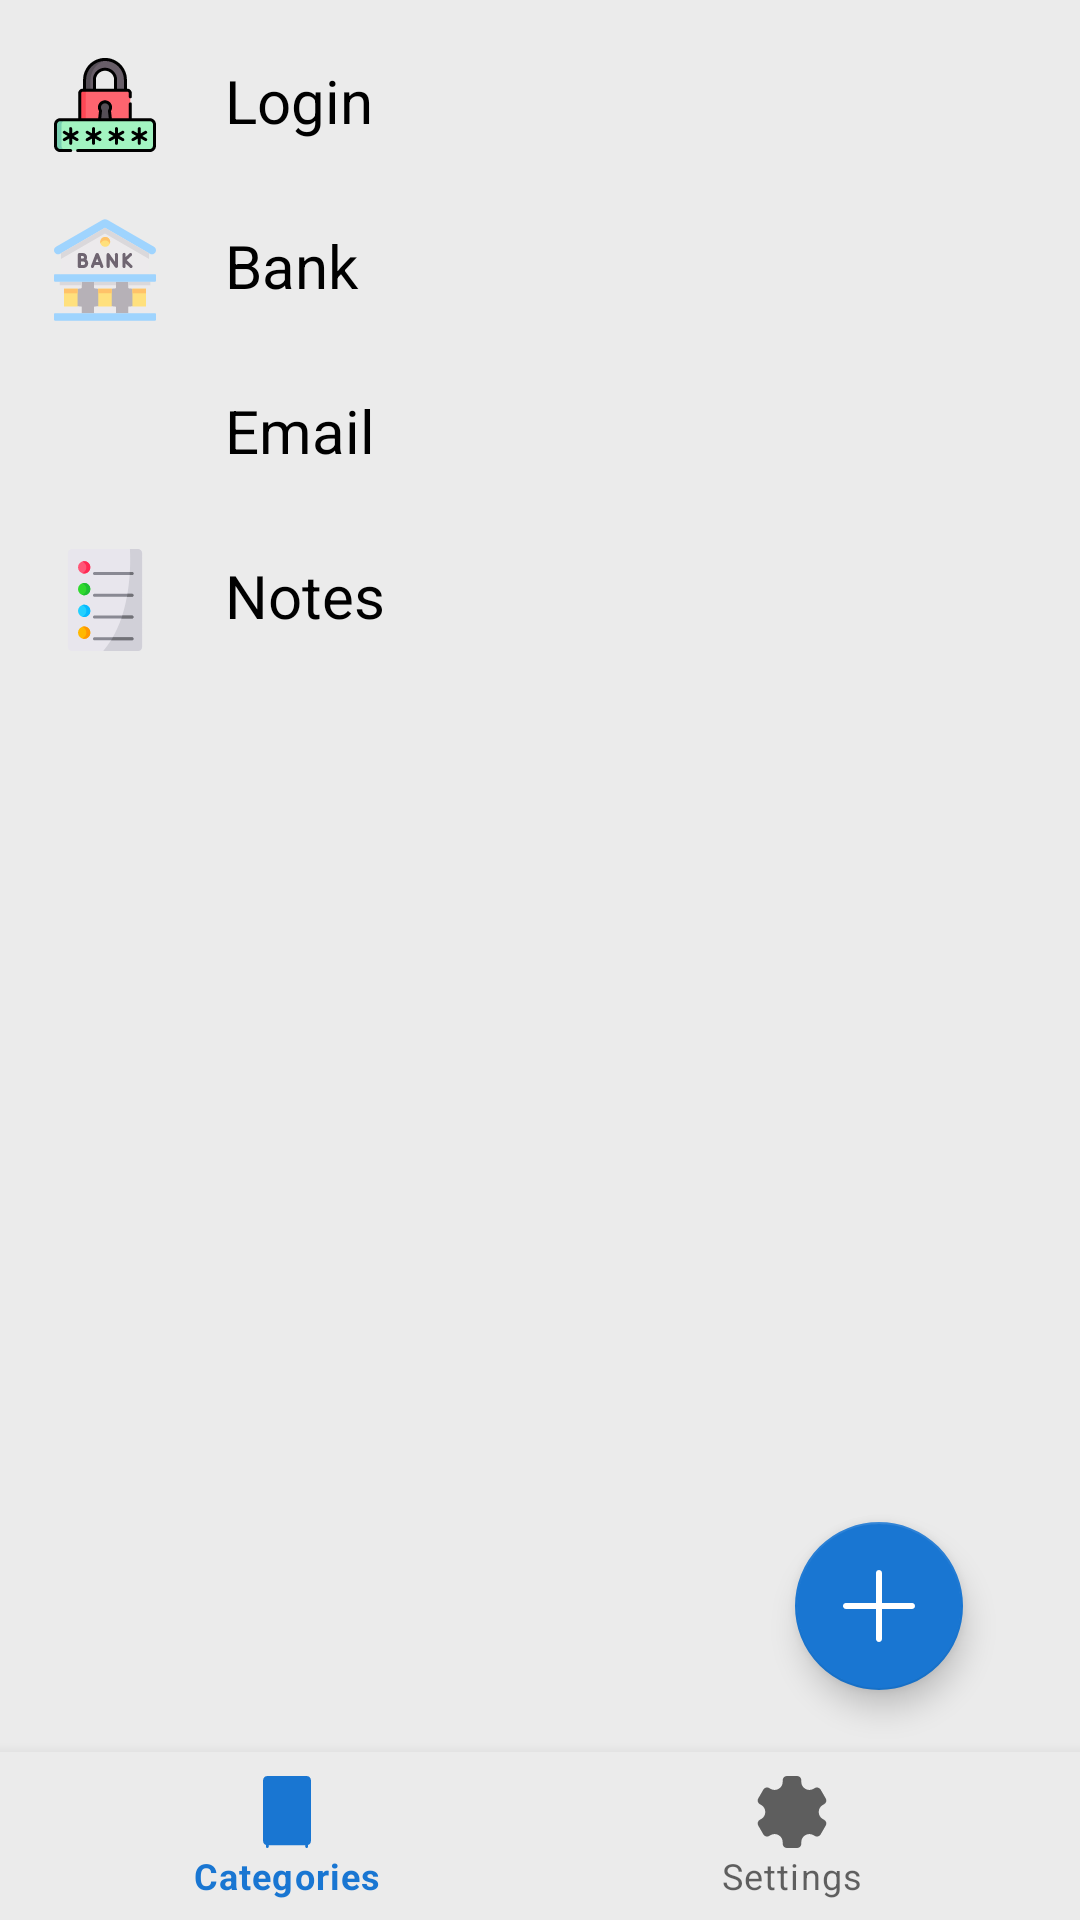

Icons on this 1080w x 1920h Android screen, each with the point to tap as (x=x, y=y):
add: (x=879, y=1606)
